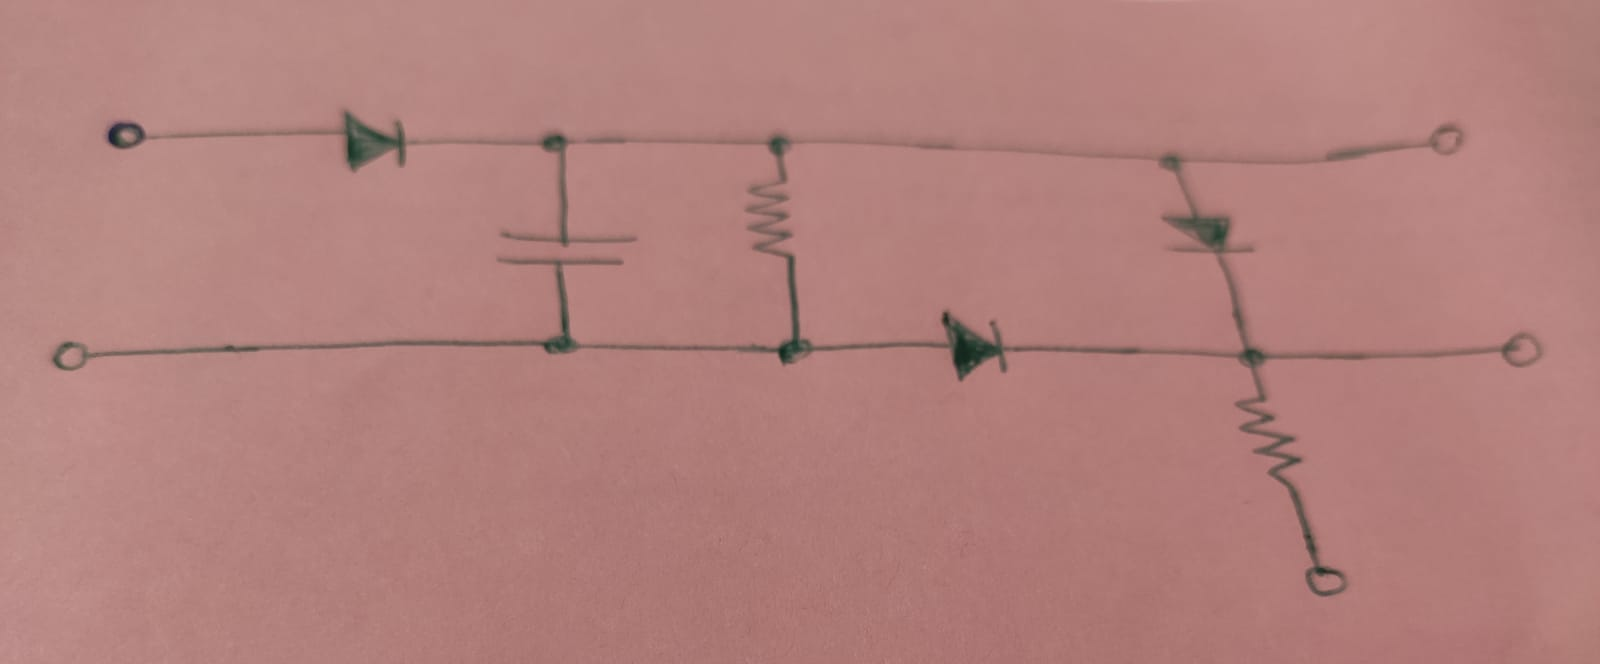capacitor.unpolarized: (498, 215, 629, 274)
diode: (944, 311, 1014, 384), (336, 107, 412, 173), (1163, 206, 1254, 258)
junction: (769, 330, 823, 371), (537, 325, 583, 363), (1228, 342, 1278, 374), (533, 127, 577, 161), (758, 131, 807, 159), (1150, 148, 1192, 177)
resistor: (1231, 386, 1304, 486), (745, 171, 797, 259)
terminal: (1296, 559, 1358, 601), (1418, 116, 1467, 161), (1496, 326, 1545, 371), (50, 338, 106, 376), (102, 115, 158, 153)
